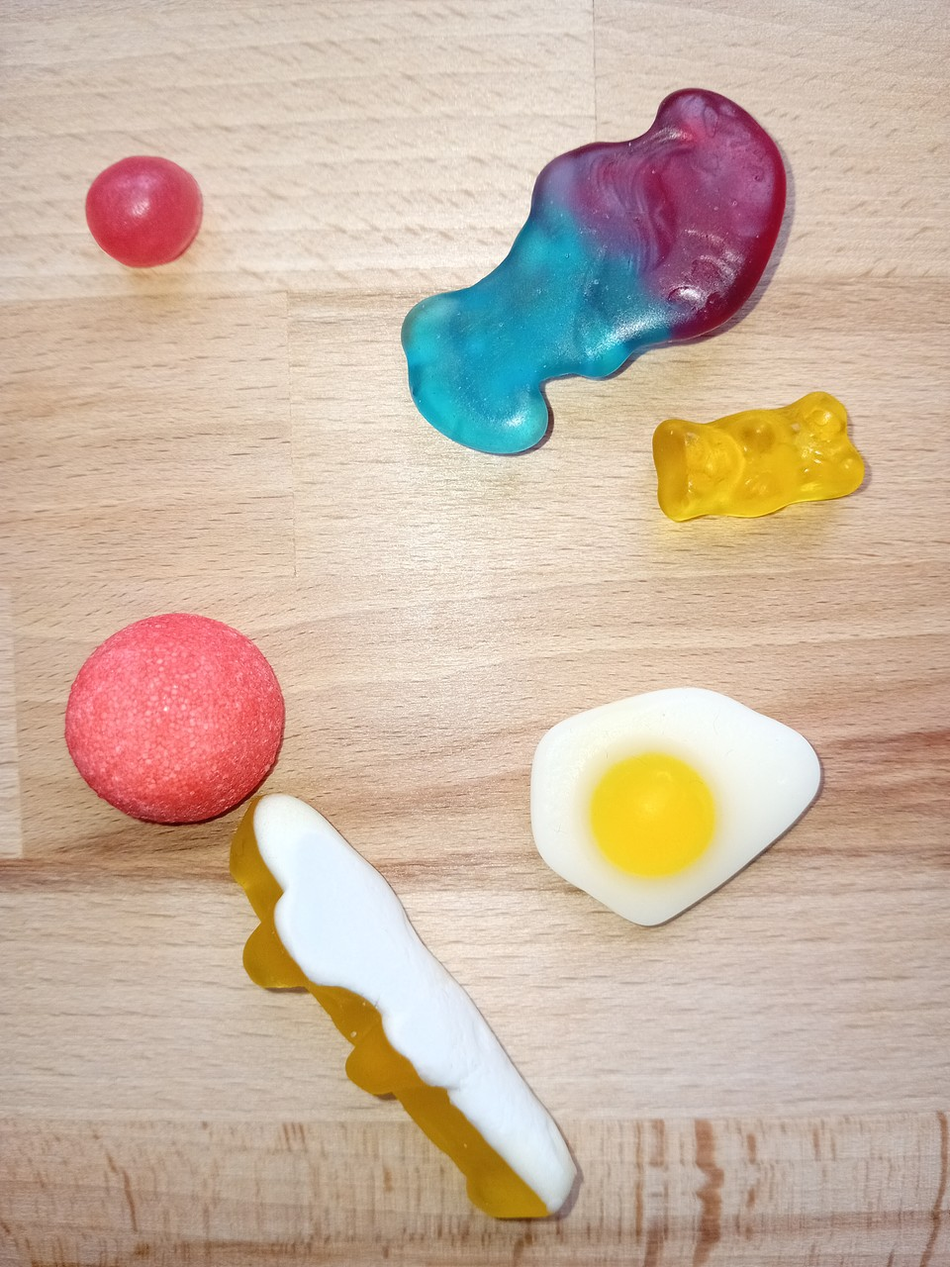crocodile_jaune: (227, 788, 590, 1226)
dragibus_rouge: (76, 151, 209, 275)
oeuf_oeuf: (522, 678, 835, 939)
ourson_jaune: (651, 383, 871, 527)
schtroumpf_bleu-rouge: (392, 81, 792, 459)
tagada_fraise: (61, 610, 293, 831)
